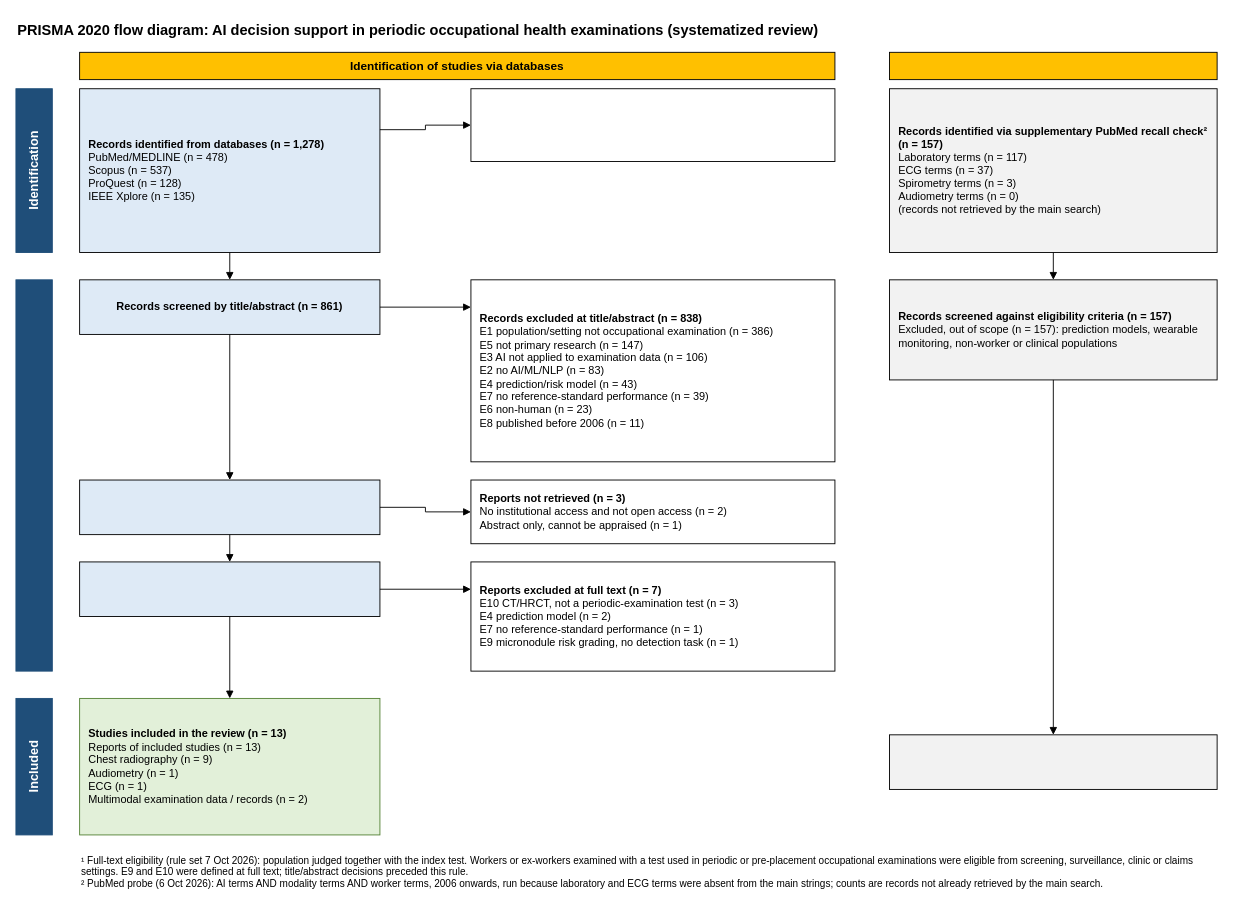
Image size: 1233x918. Some labels were removed from this diagram. Here are the shapes that lost their labels. From the top down, the box of each, then its label:
(889, 51, 1217, 80): Identification via other methods
(470, 88, 835, 162): Records removed before screening Duplicate records removed (n = 417)
(15, 279, 52, 671): Screening
(79, 479, 380, 535): Reports sought for retrieval (n = 23)
(79, 561, 380, 617): Reports assessed for eligibility¹ (n = 20)
(889, 734, 1217, 789): Studies added from other methods (n = 0)
